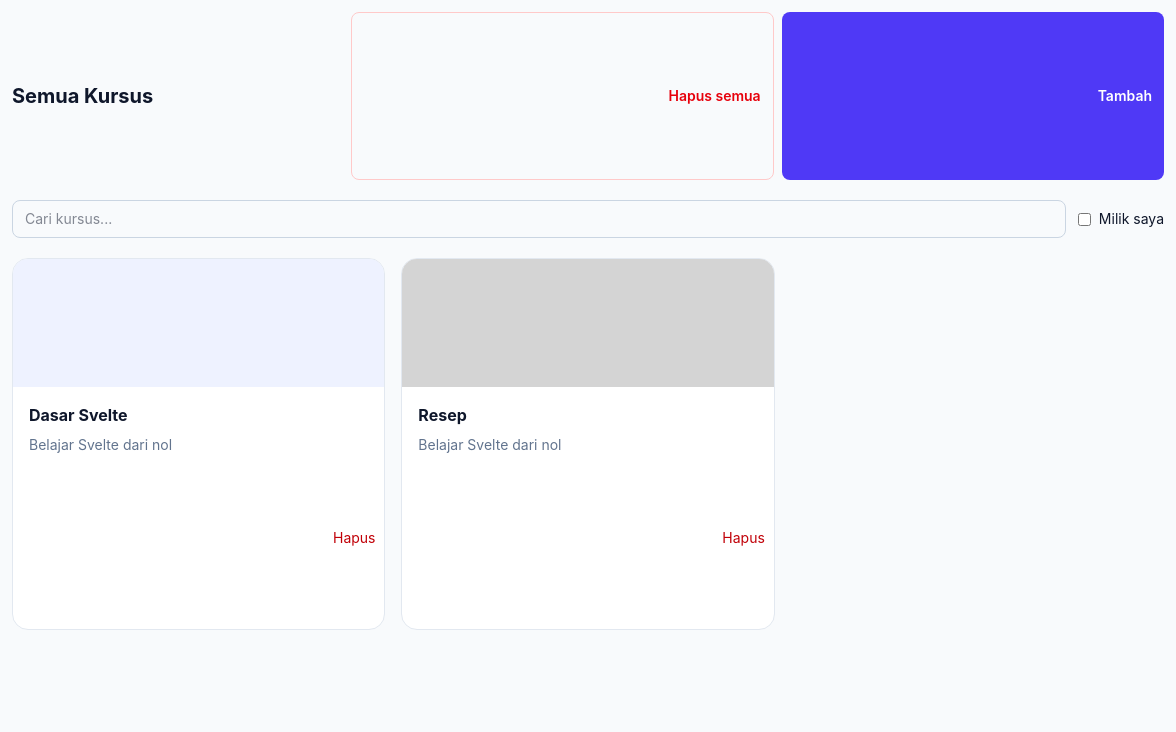
it: HomePage › tanpa profil, tidak ada kursus yang dianggap milik saya
expect the number of list items with test id "card" is 2: met, box x1=12 y1=258 x2=385 y2=630; x1=401 y1=258 x2=775 y2=630
Click the checkbox labelled "Milik saya" at x=1084, y=219, box x1=1078 y1=212 x2=1091 y2=226
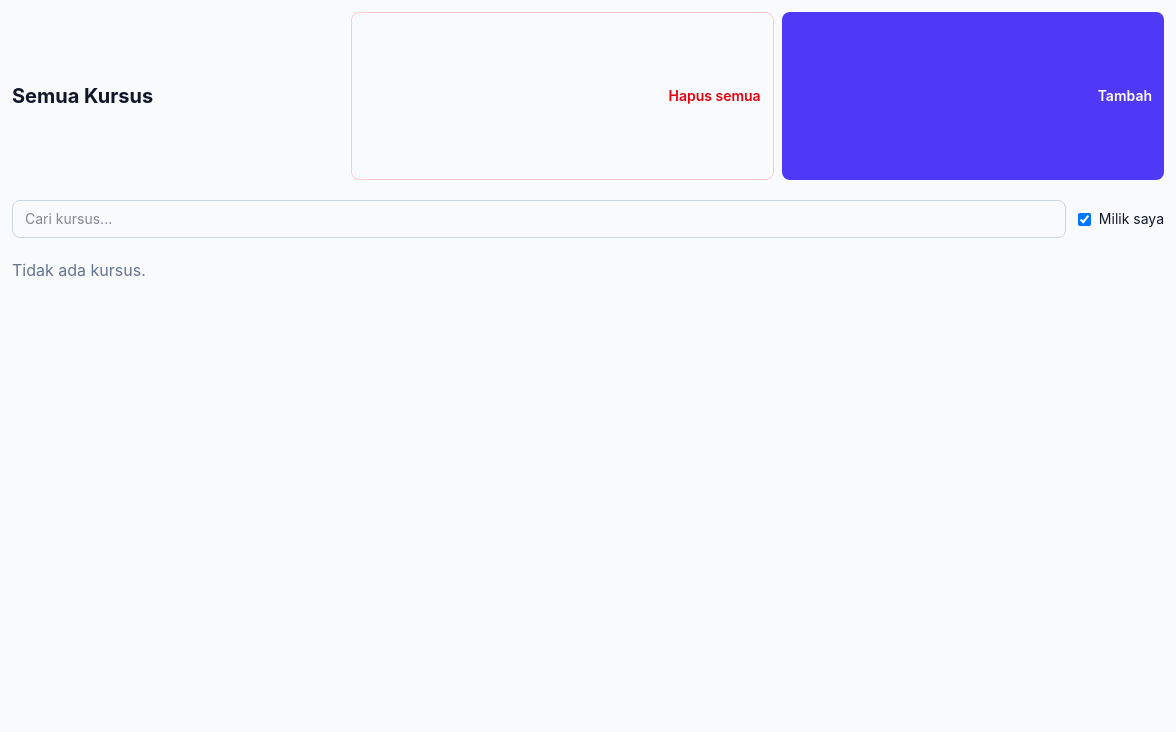
expect the text "Tidak ada kursus." is shown: met, box x1=12 y1=260 x2=146 y2=280
